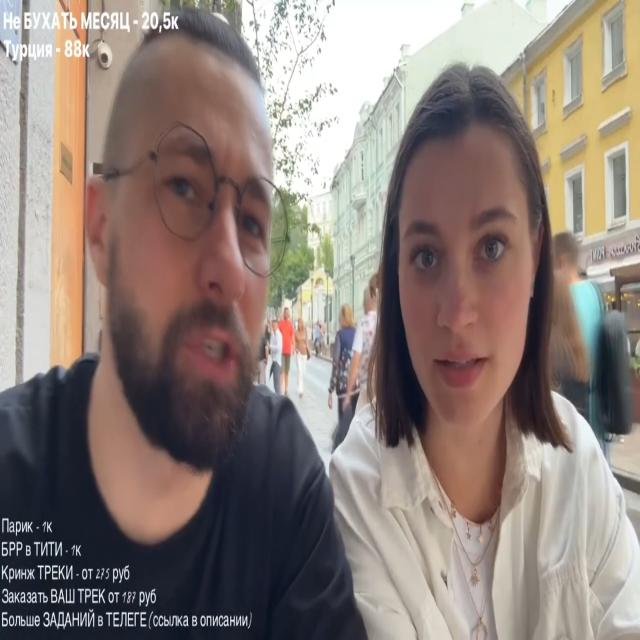Person: (0, 2, 360, 639), (281, 45, 640, 640), (267, 315, 287, 393)
